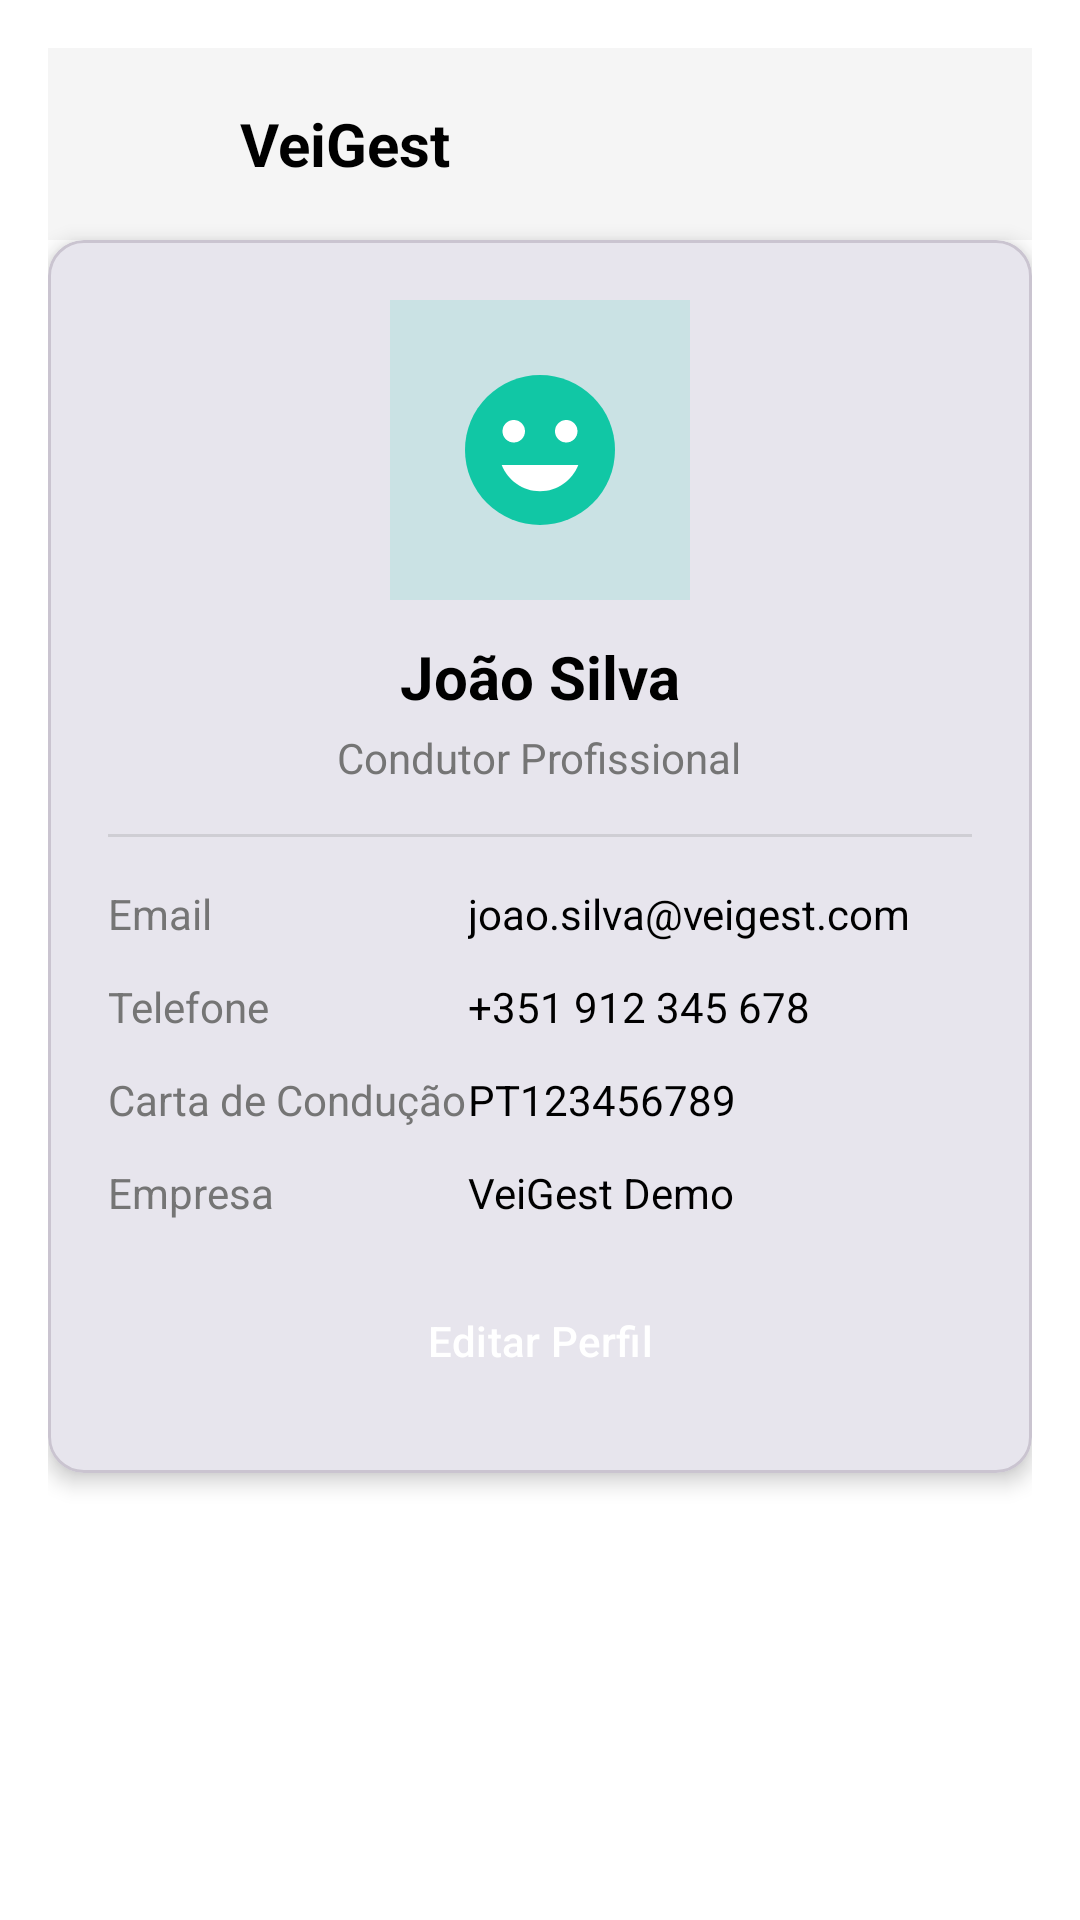

Named icons in this screenshot (1080×1920) and their bounding boxes, (x1, y1, x2, y2):
profile: (390, 300, 690, 600)
